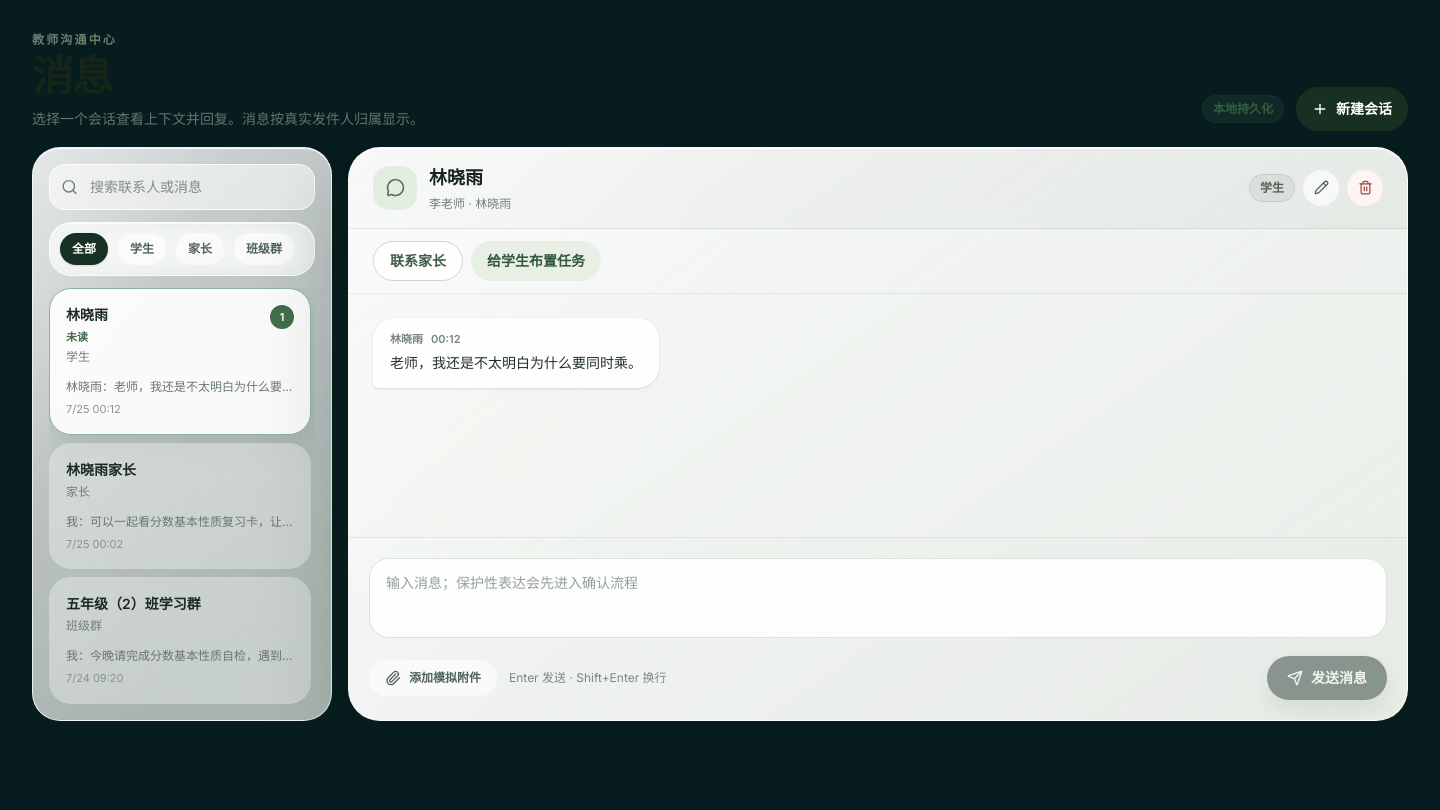
Test case: MessagesPage › filters to class groups and can return to all conversations
Click the button "班级群". click: x=264, y=249
box: [234,233,294,265]
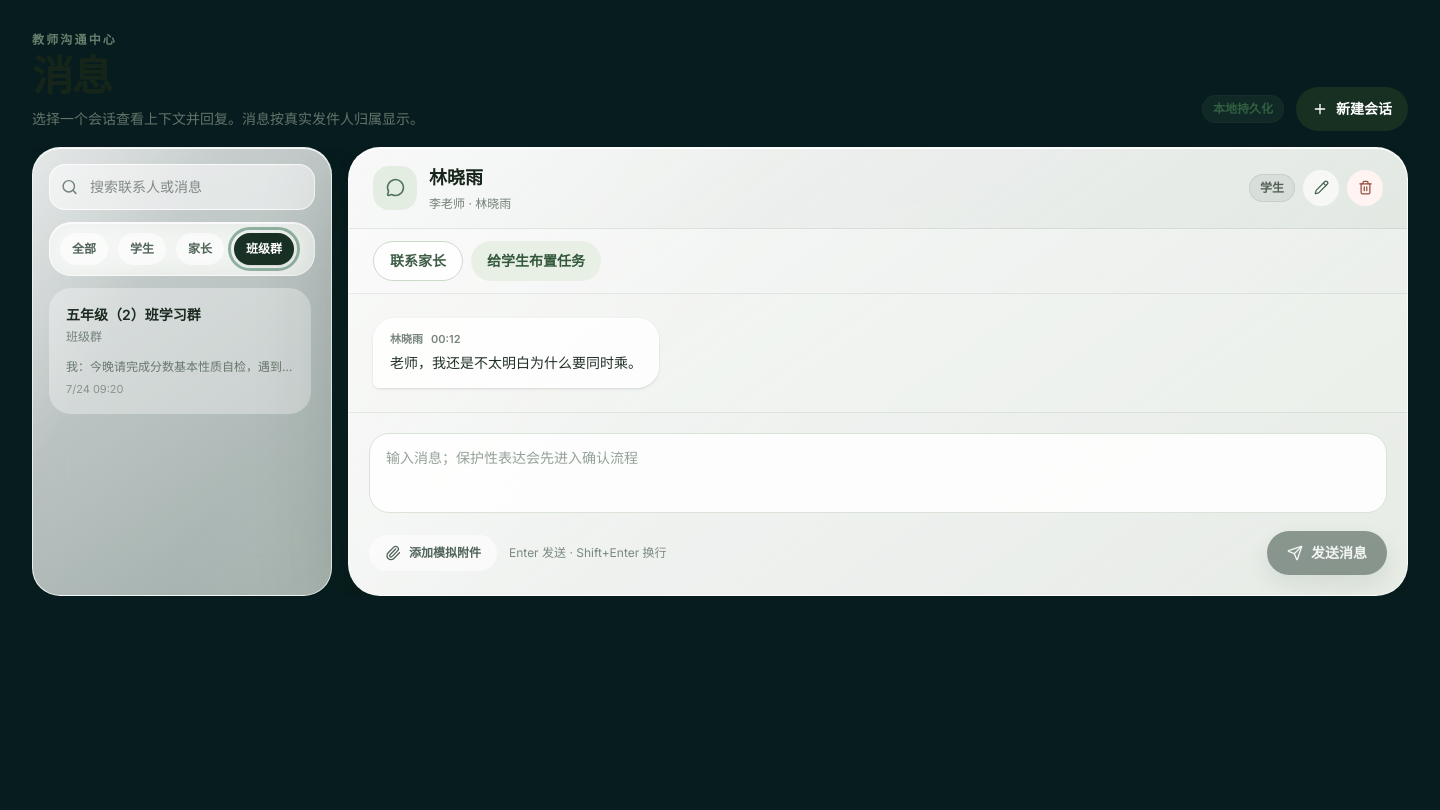
expect the button with aria-label "打开五年级（2）班学习群会话" is shown: met, box [49,288,311,414]
expect the button "打开林晓雨家长会话" is gone: met
Click the button "全部". click: x=84, y=249
box: [60,233,108,265]
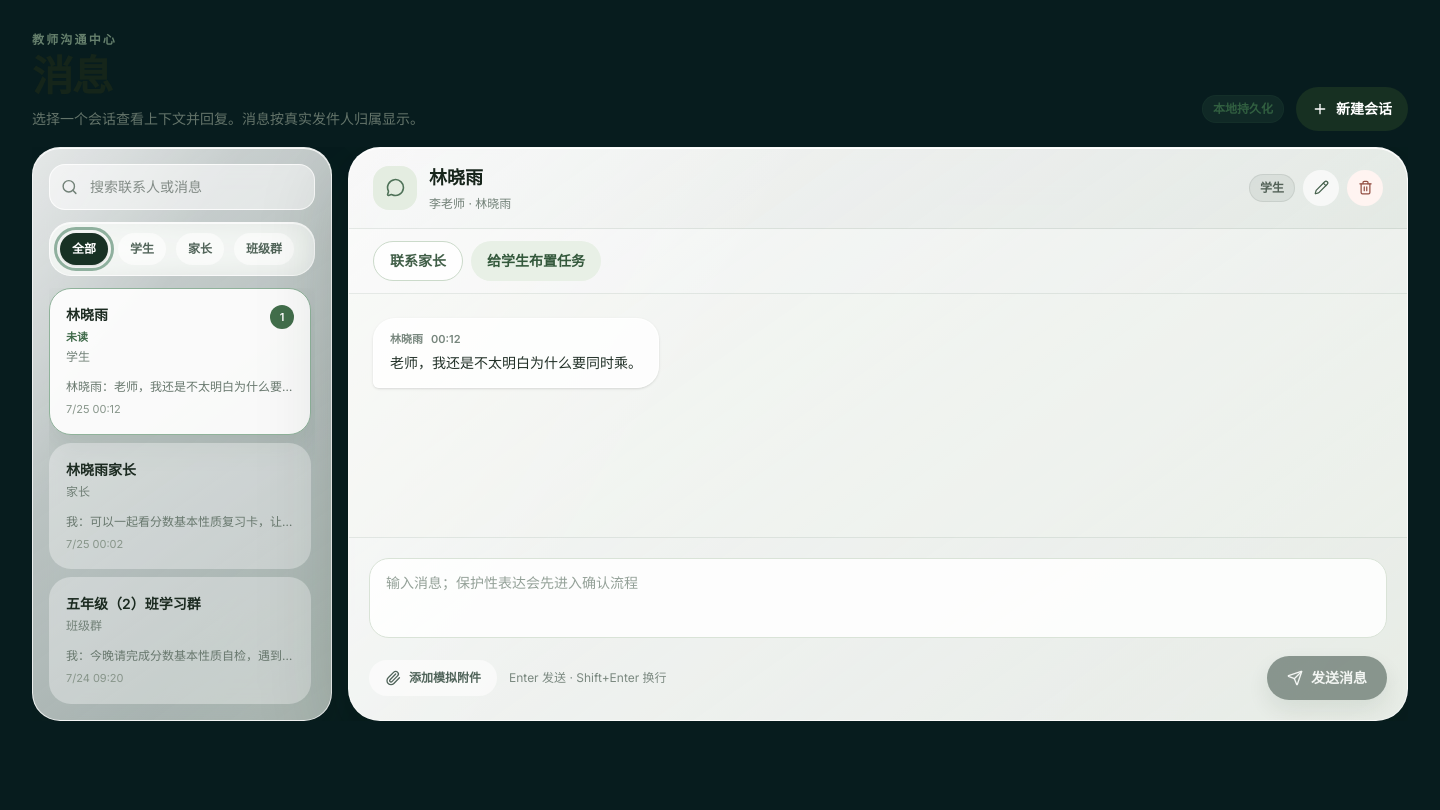
expect the button with aria-label "打开林晓雨家长会话" is shown: met, box [49,443,311,569]
